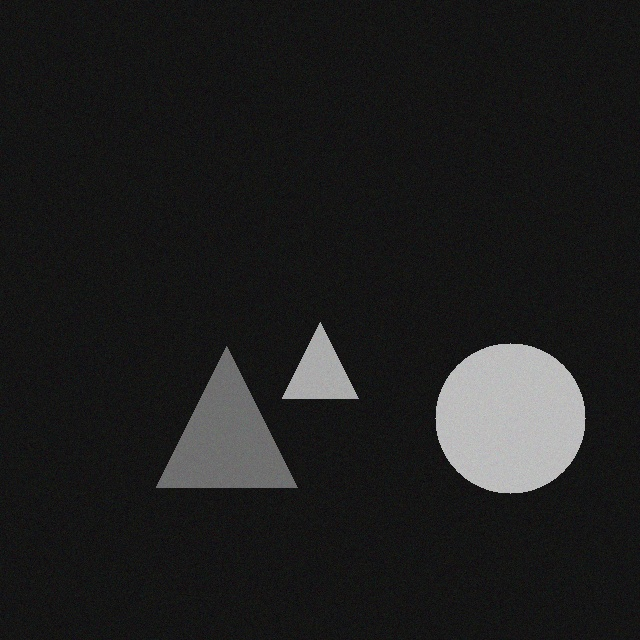circle: (447, 340, 597, 490)
triangle: (168, 343, 309, 484), (294, 319, 370, 395)
